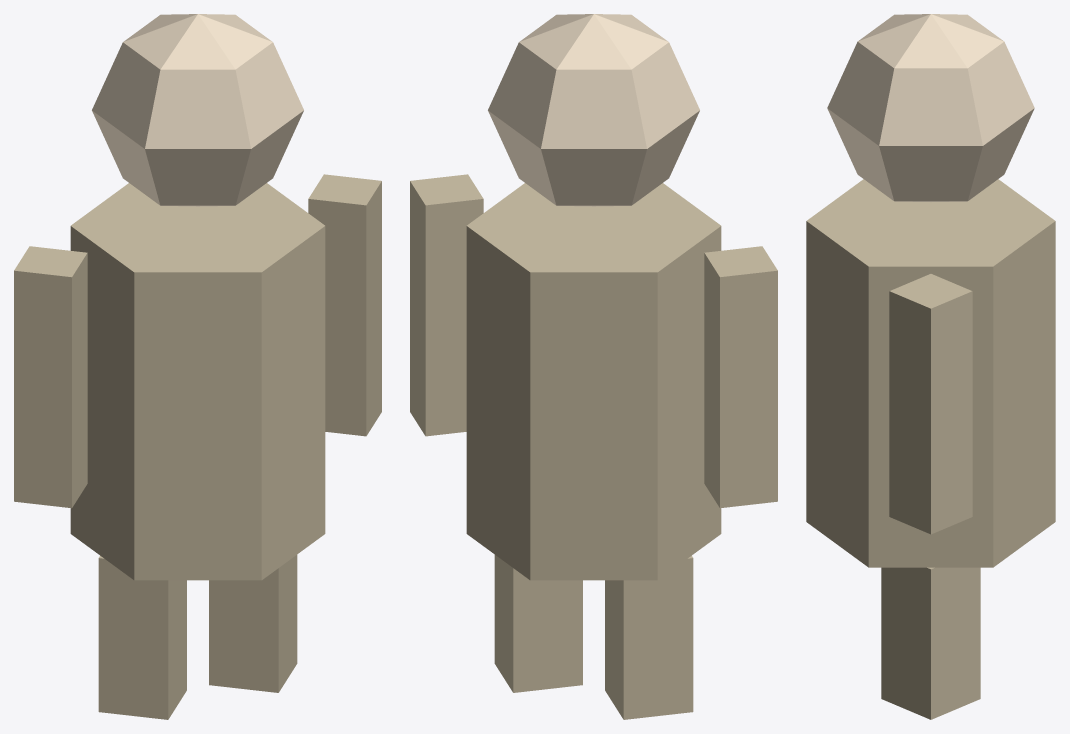
File: brewer.glb
3 renders of one model, left to right at view 1: azimuth 30°, elevation 25°; view 2: azimuth 150°, elevation 25°; view 3: azimuth 270°, elevation 25°, orthographic. The views are drawn at different scales.
Visible parts, largest first — view 1: brewer_torso, brewer_head, brewer_arm_l, brewer_arm_r, brewer_leg_l, brewer_leg_r; view 2: brewer_torso, brewer_head, brewer_arm_l, brewer_arm_r, brewer_leg_l, brewer_leg_r; view 3: brewer_torso, brewer_head, brewer_arm_r, brewer_leg_r.
Part boxes in pixels (<box>): brewer_torso: <box>70,183,325,580</box>; brewer_head: <box>92,14,303,206</box>; brewer_arm_l: <box>14,246,87,508</box>; brewer_arm_r: <box>308,174,381,436</box>; brewer_leg_l: <box>98,555,186,719</box>; brewer_leg_r: <box>209,555,297,692</box>; brewer_torso: <box>466,183,721,580</box>; brewer_head: <box>488,14,699,206</box>; brewer_arm_l: <box>704,246,777,508</box>; brewer_arm_r: <box>410,174,483,436</box>; brewer_leg_l: <box>605,555,693,719</box>; brewer_leg_r: <box>494,555,582,692</box>; brewer_torso: <box>806,179,1055,567</box>; brewer_head: <box>827,14,1034,201</box>; brewer_arm_r: <box>889,274,972,534</box>; brewer_leg_r: <box>881,567,980,719</box>.
Bounding box in the file's own units: 0.375 × 0.6562 × 0.225.
